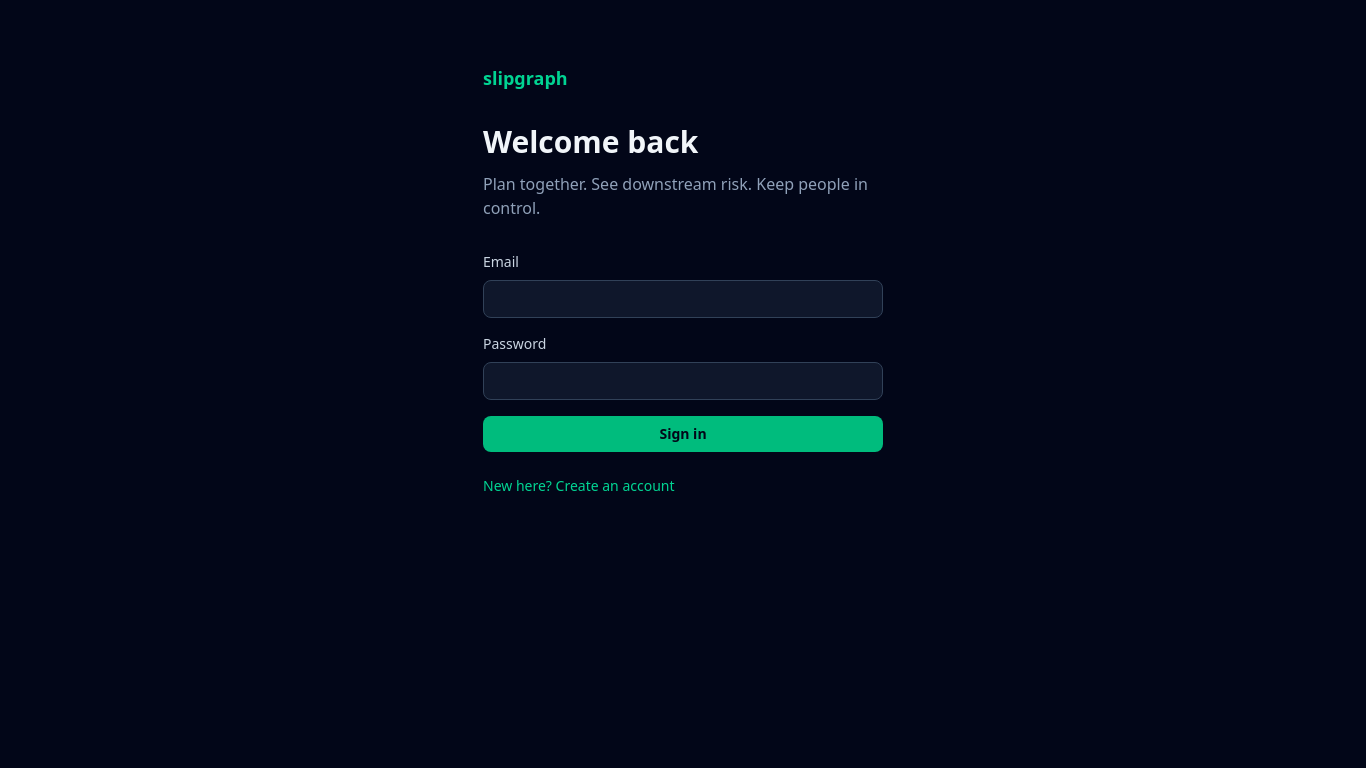
Test: sign in uses session-bound CSRF and opens only the authenticated workspace
Expected: the heading "Welcome back" is shown, [483,121,698,162]
Type "a@example.com" into the field labelled "Email" at (683,299), box [483,280,883,318]
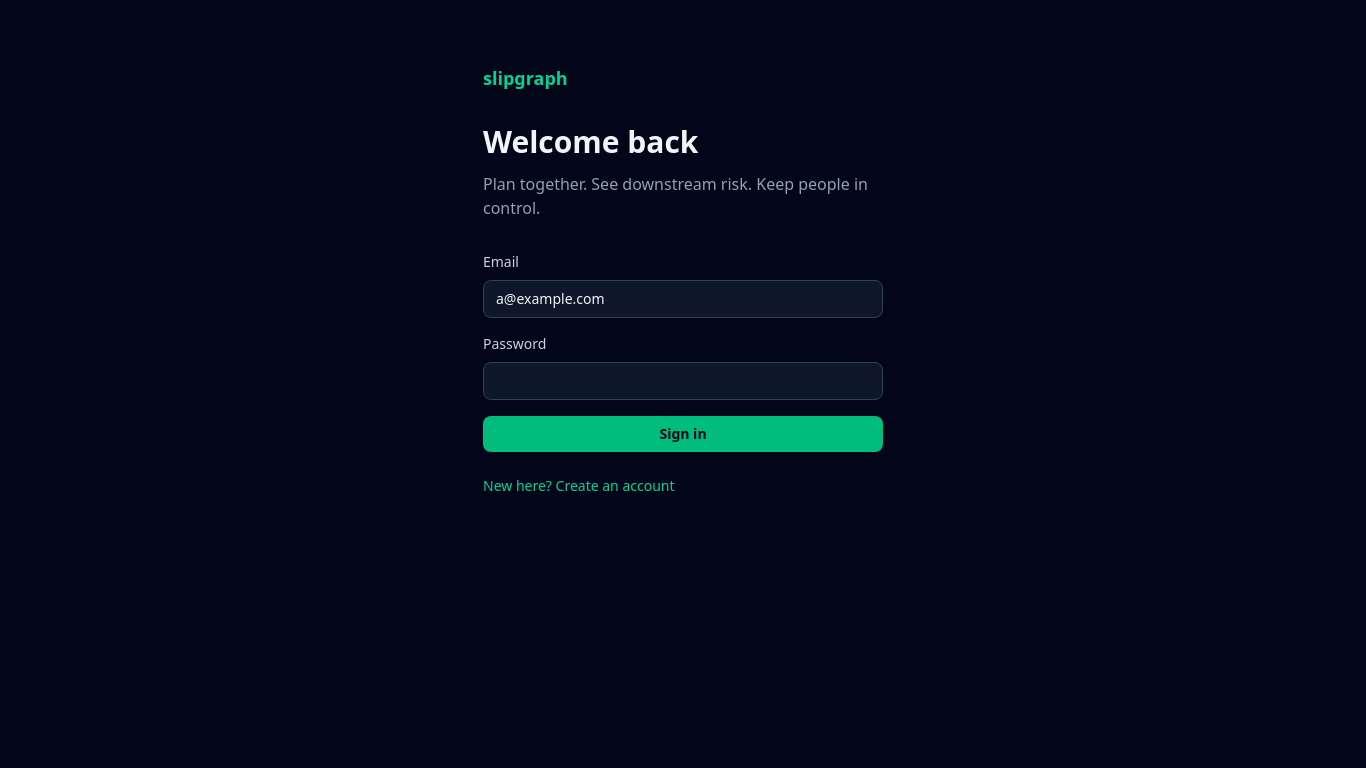
Type "correct horse battery staple" into the password field labelled "Password" at (683,381), box [483,362,883,400]
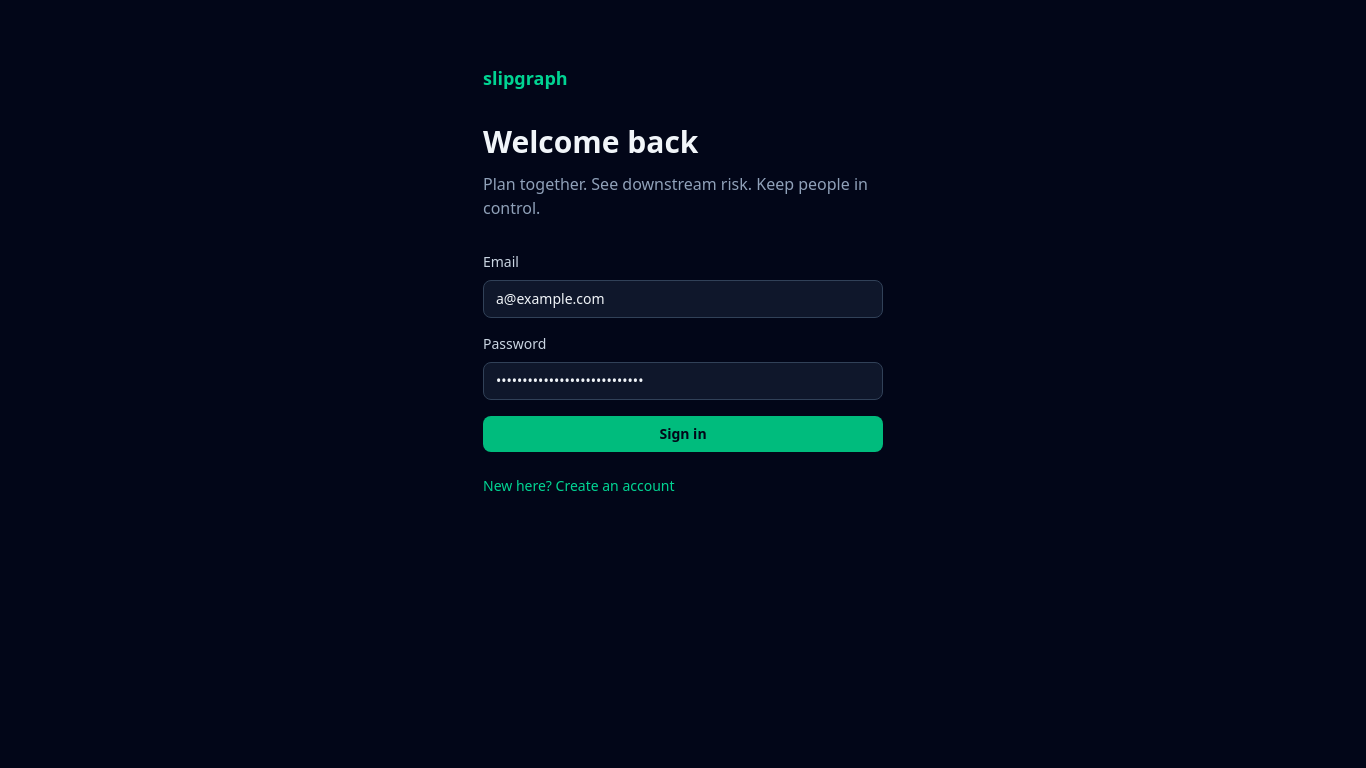
Click the button "Sign in" at (683,434), box [483,416,883,452]
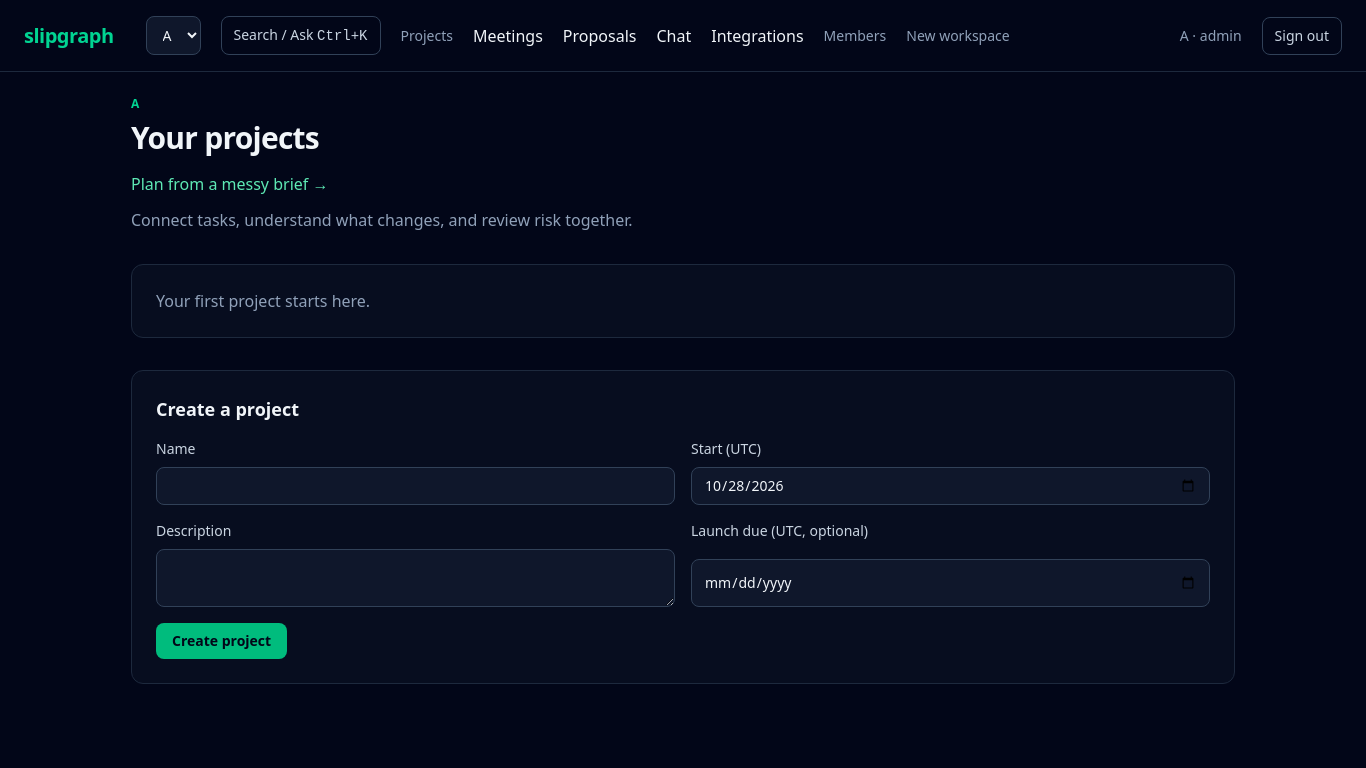
Expected: the heading "Your projects" is shown, [131,117,319,158]
Expected: the dropdown named "Workspace" shows "A", [146,16,200,55]
